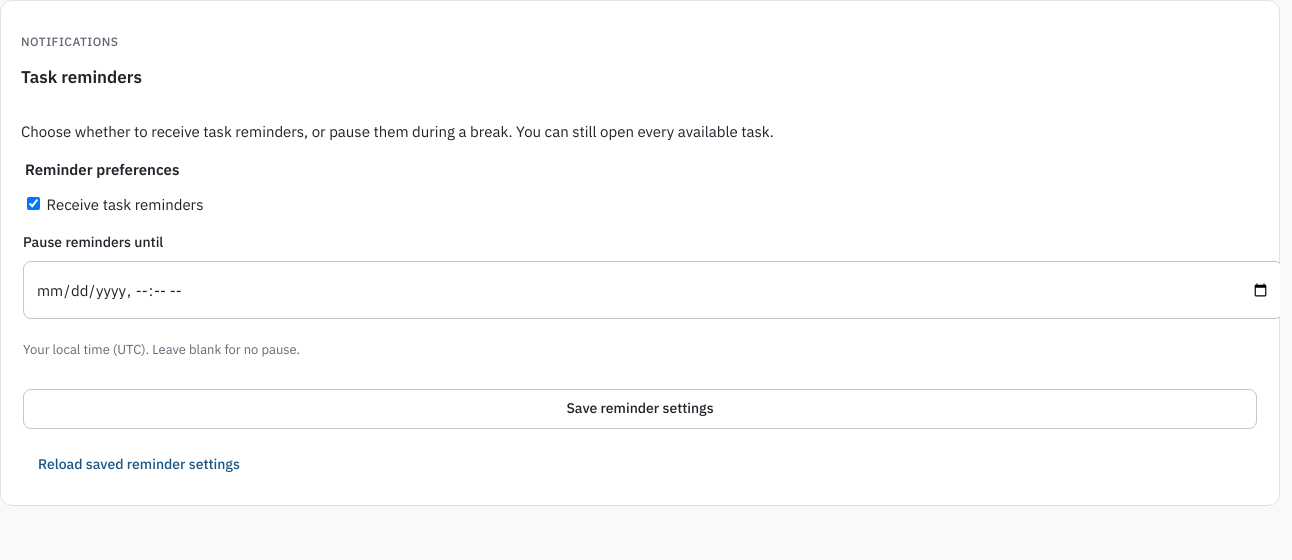
it: a failed preference save preserves the choice and reuses the request key
Click the checkbox labelled "Receive task reminders" at [34, 203], box [27,197,40,210]
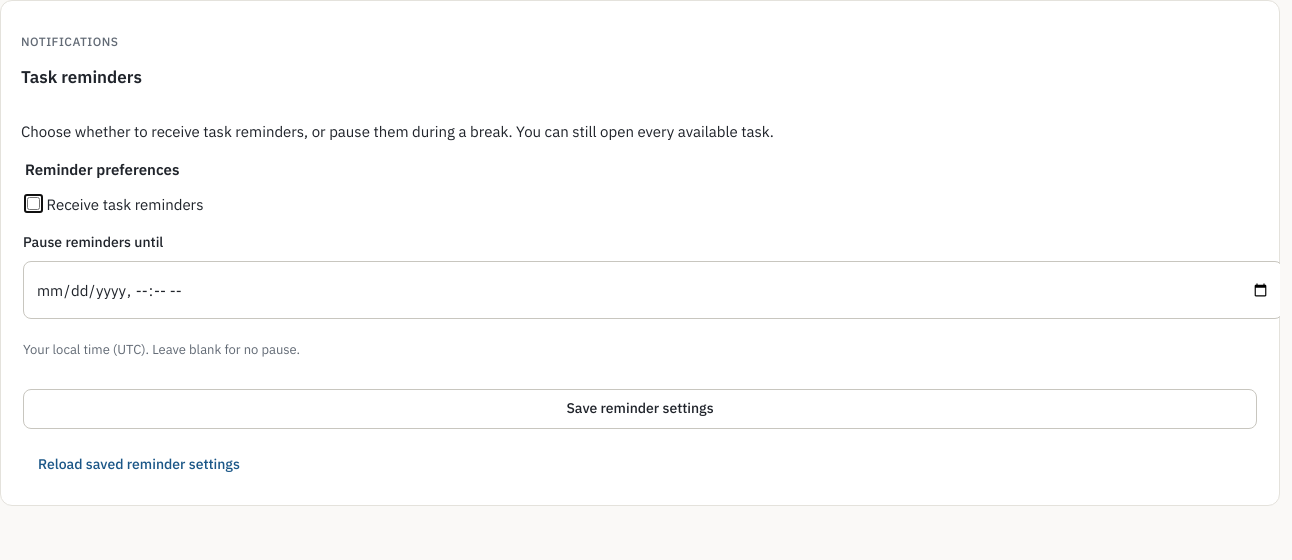
Click the button "Save reminder settings" at [640, 409], box [23,389,1257,429]
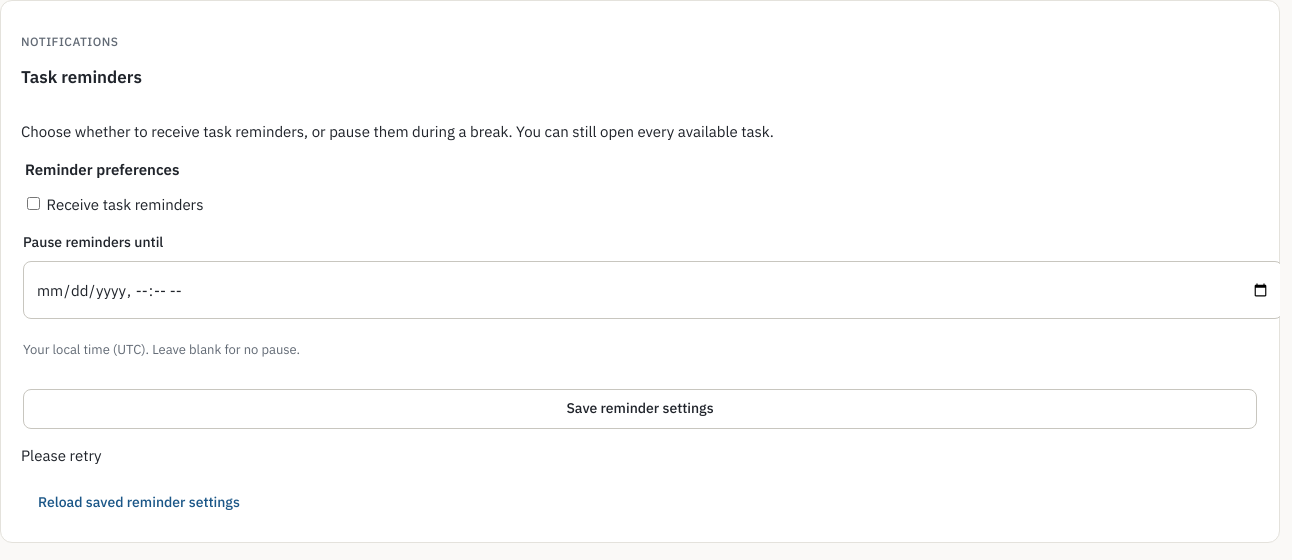
Result: the checkbox labelled "Receive task reminders" is not checked at [27,197,40,210]
Result: the text "Please retry" is shown at [21,446,102,465]
Click the button "Save reminder settings" at [640, 409], box [23,389,1257,429]
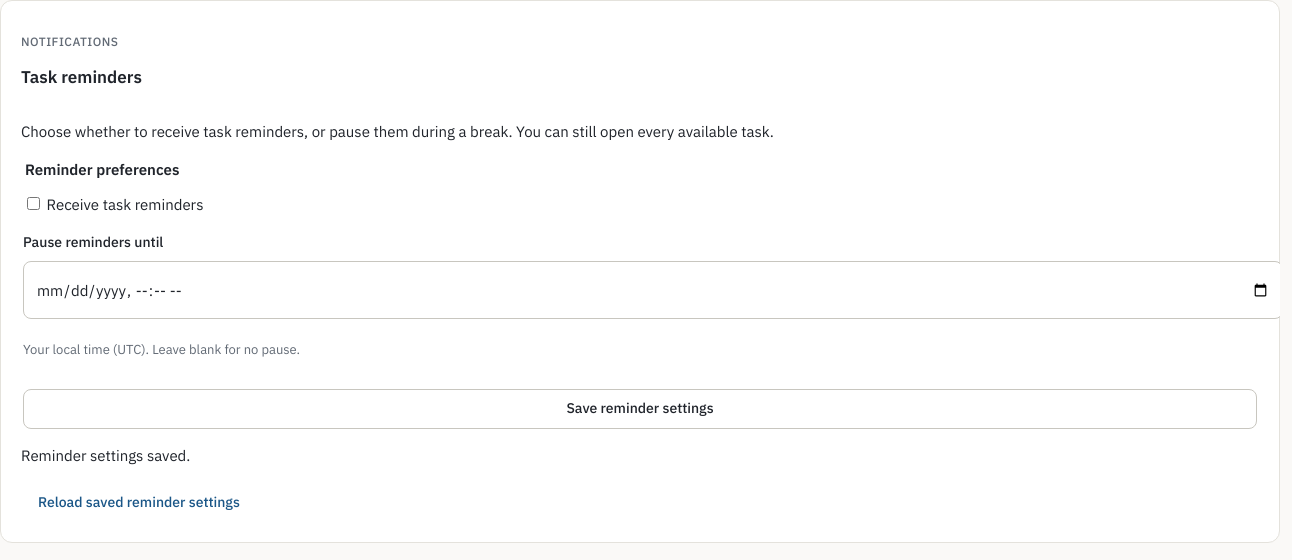
Result: the text "Reminder settings saved." is shown at [21,446,190,465]
